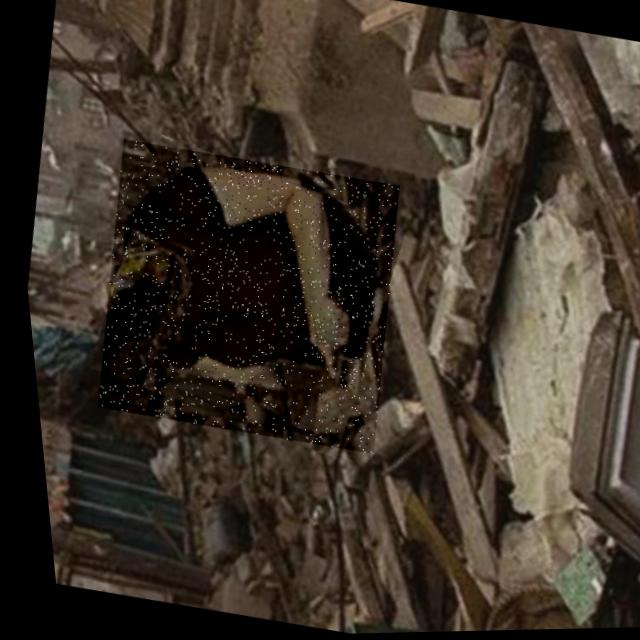Person in Rubble: (69, 134, 416, 459)
